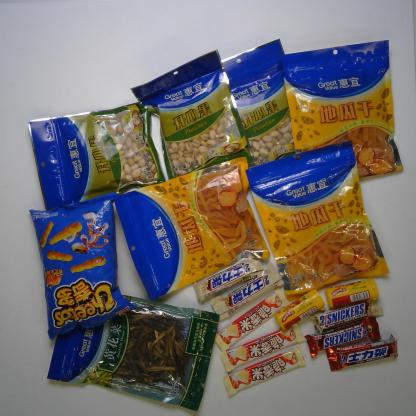Candy: (324, 278, 382, 309), (276, 291, 324, 326)
Chocolate: (213, 290, 288, 352), (220, 322, 308, 371), (210, 266, 288, 319), (225, 347, 305, 396), (305, 317, 384, 358), (197, 255, 266, 301), (326, 334, 398, 372), (313, 298, 385, 331)
Dried Food: (39, 278, 227, 408)
Dried Fruit: (112, 162, 272, 300), (21, 80, 179, 214), (244, 142, 387, 288), (276, 38, 404, 181), (130, 48, 254, 188), (210, 40, 302, 182)
Puffed Food: (28, 190, 134, 337)
